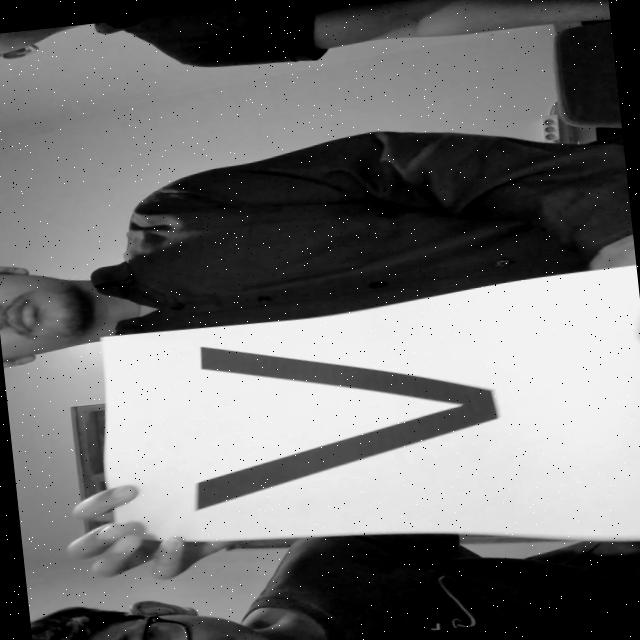v: (147, 302, 528, 522)
